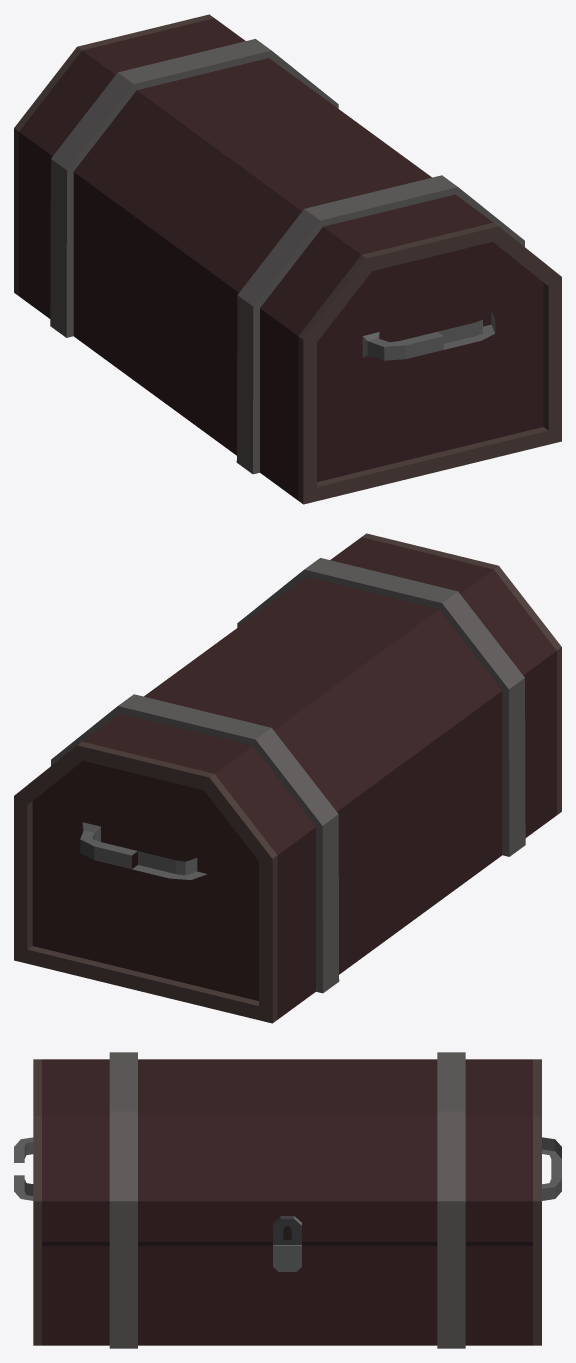
Rendered from Trunk_01.glb.
3 renders of one model, top to bottom at view 1: azimuth 30°, elevation 25°; view 2: azimuth 150°, elevation 25°; view 3: azimuth 270°, elevation 25°, orthographic. The views are drawn at different scales.
Visible parts, largest first — view 1: Trunk_01; view 2: Trunk_01; view 3: Trunk_01.
Part boxes in pixels (<box>): Trunk_01: <box>14,14,561,504</box>; Trunk_01: <box>14,533,561,1023</box>; Trunk_01: <box>14,1052,561,1348</box>.
Size of what is drawn, in the model's own units: 1.03 by 0.8539 by 2.03.
1 material, 1 textured.
